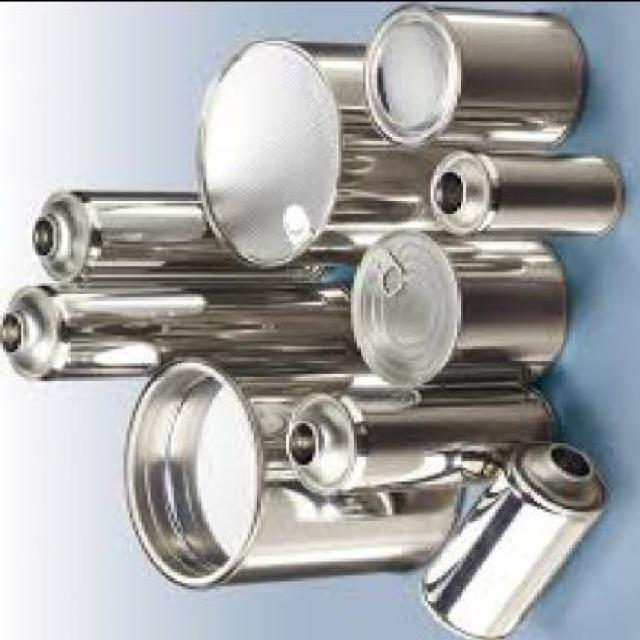METAL: (121, 353, 465, 593), (189, 42, 469, 270), (415, 442, 608, 638), (345, 235, 566, 392), (0, 284, 354, 381), (360, 8, 582, 149), (280, 386, 560, 494), (26, 193, 325, 287), (426, 148, 620, 234)
